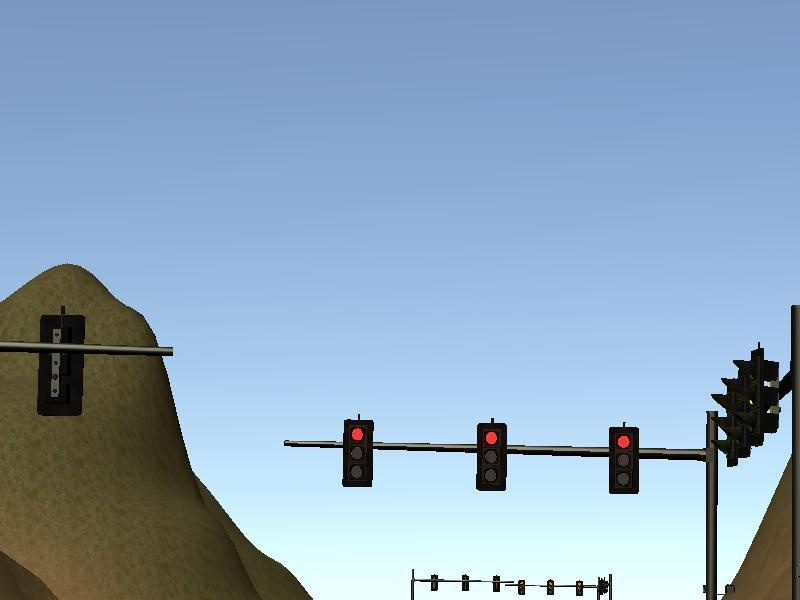red: (608, 427, 637, 494), (478, 424, 507, 490), (345, 420, 372, 489)
